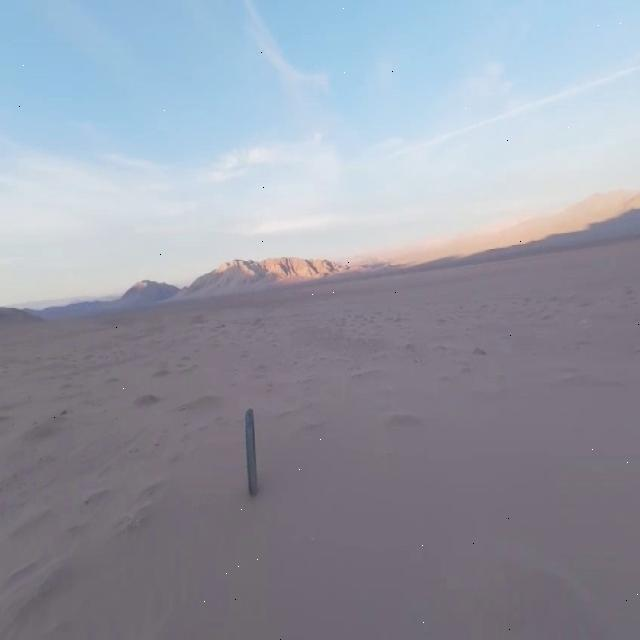Tire: (245, 408, 258, 495)
